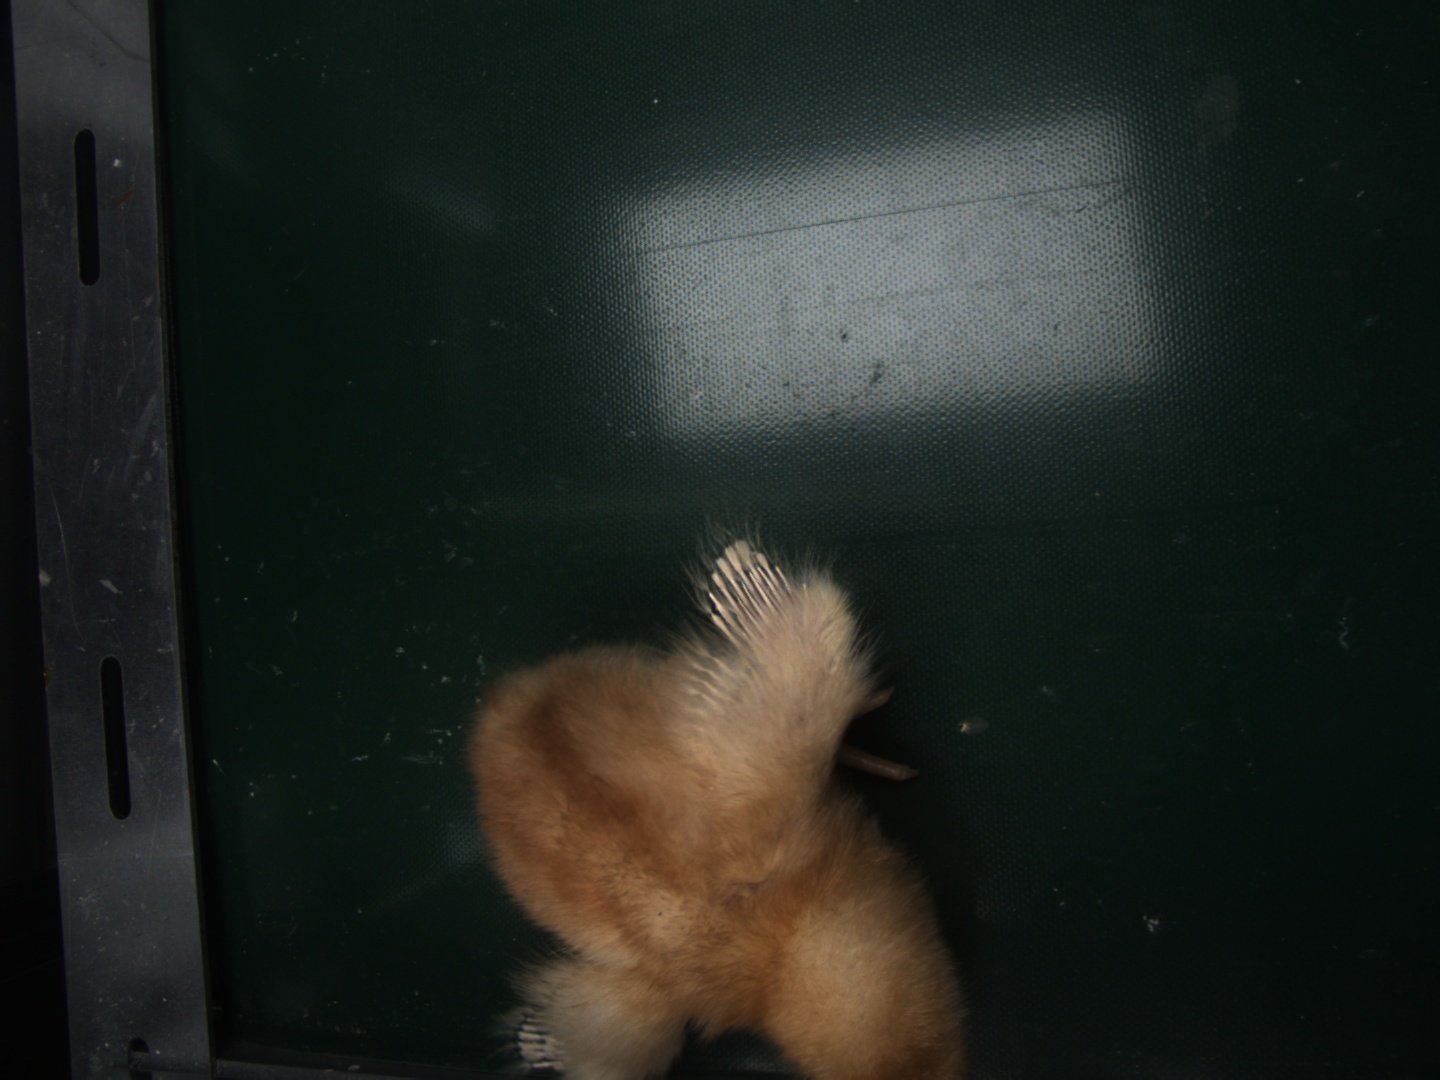female: (704, 539, 801, 653)
